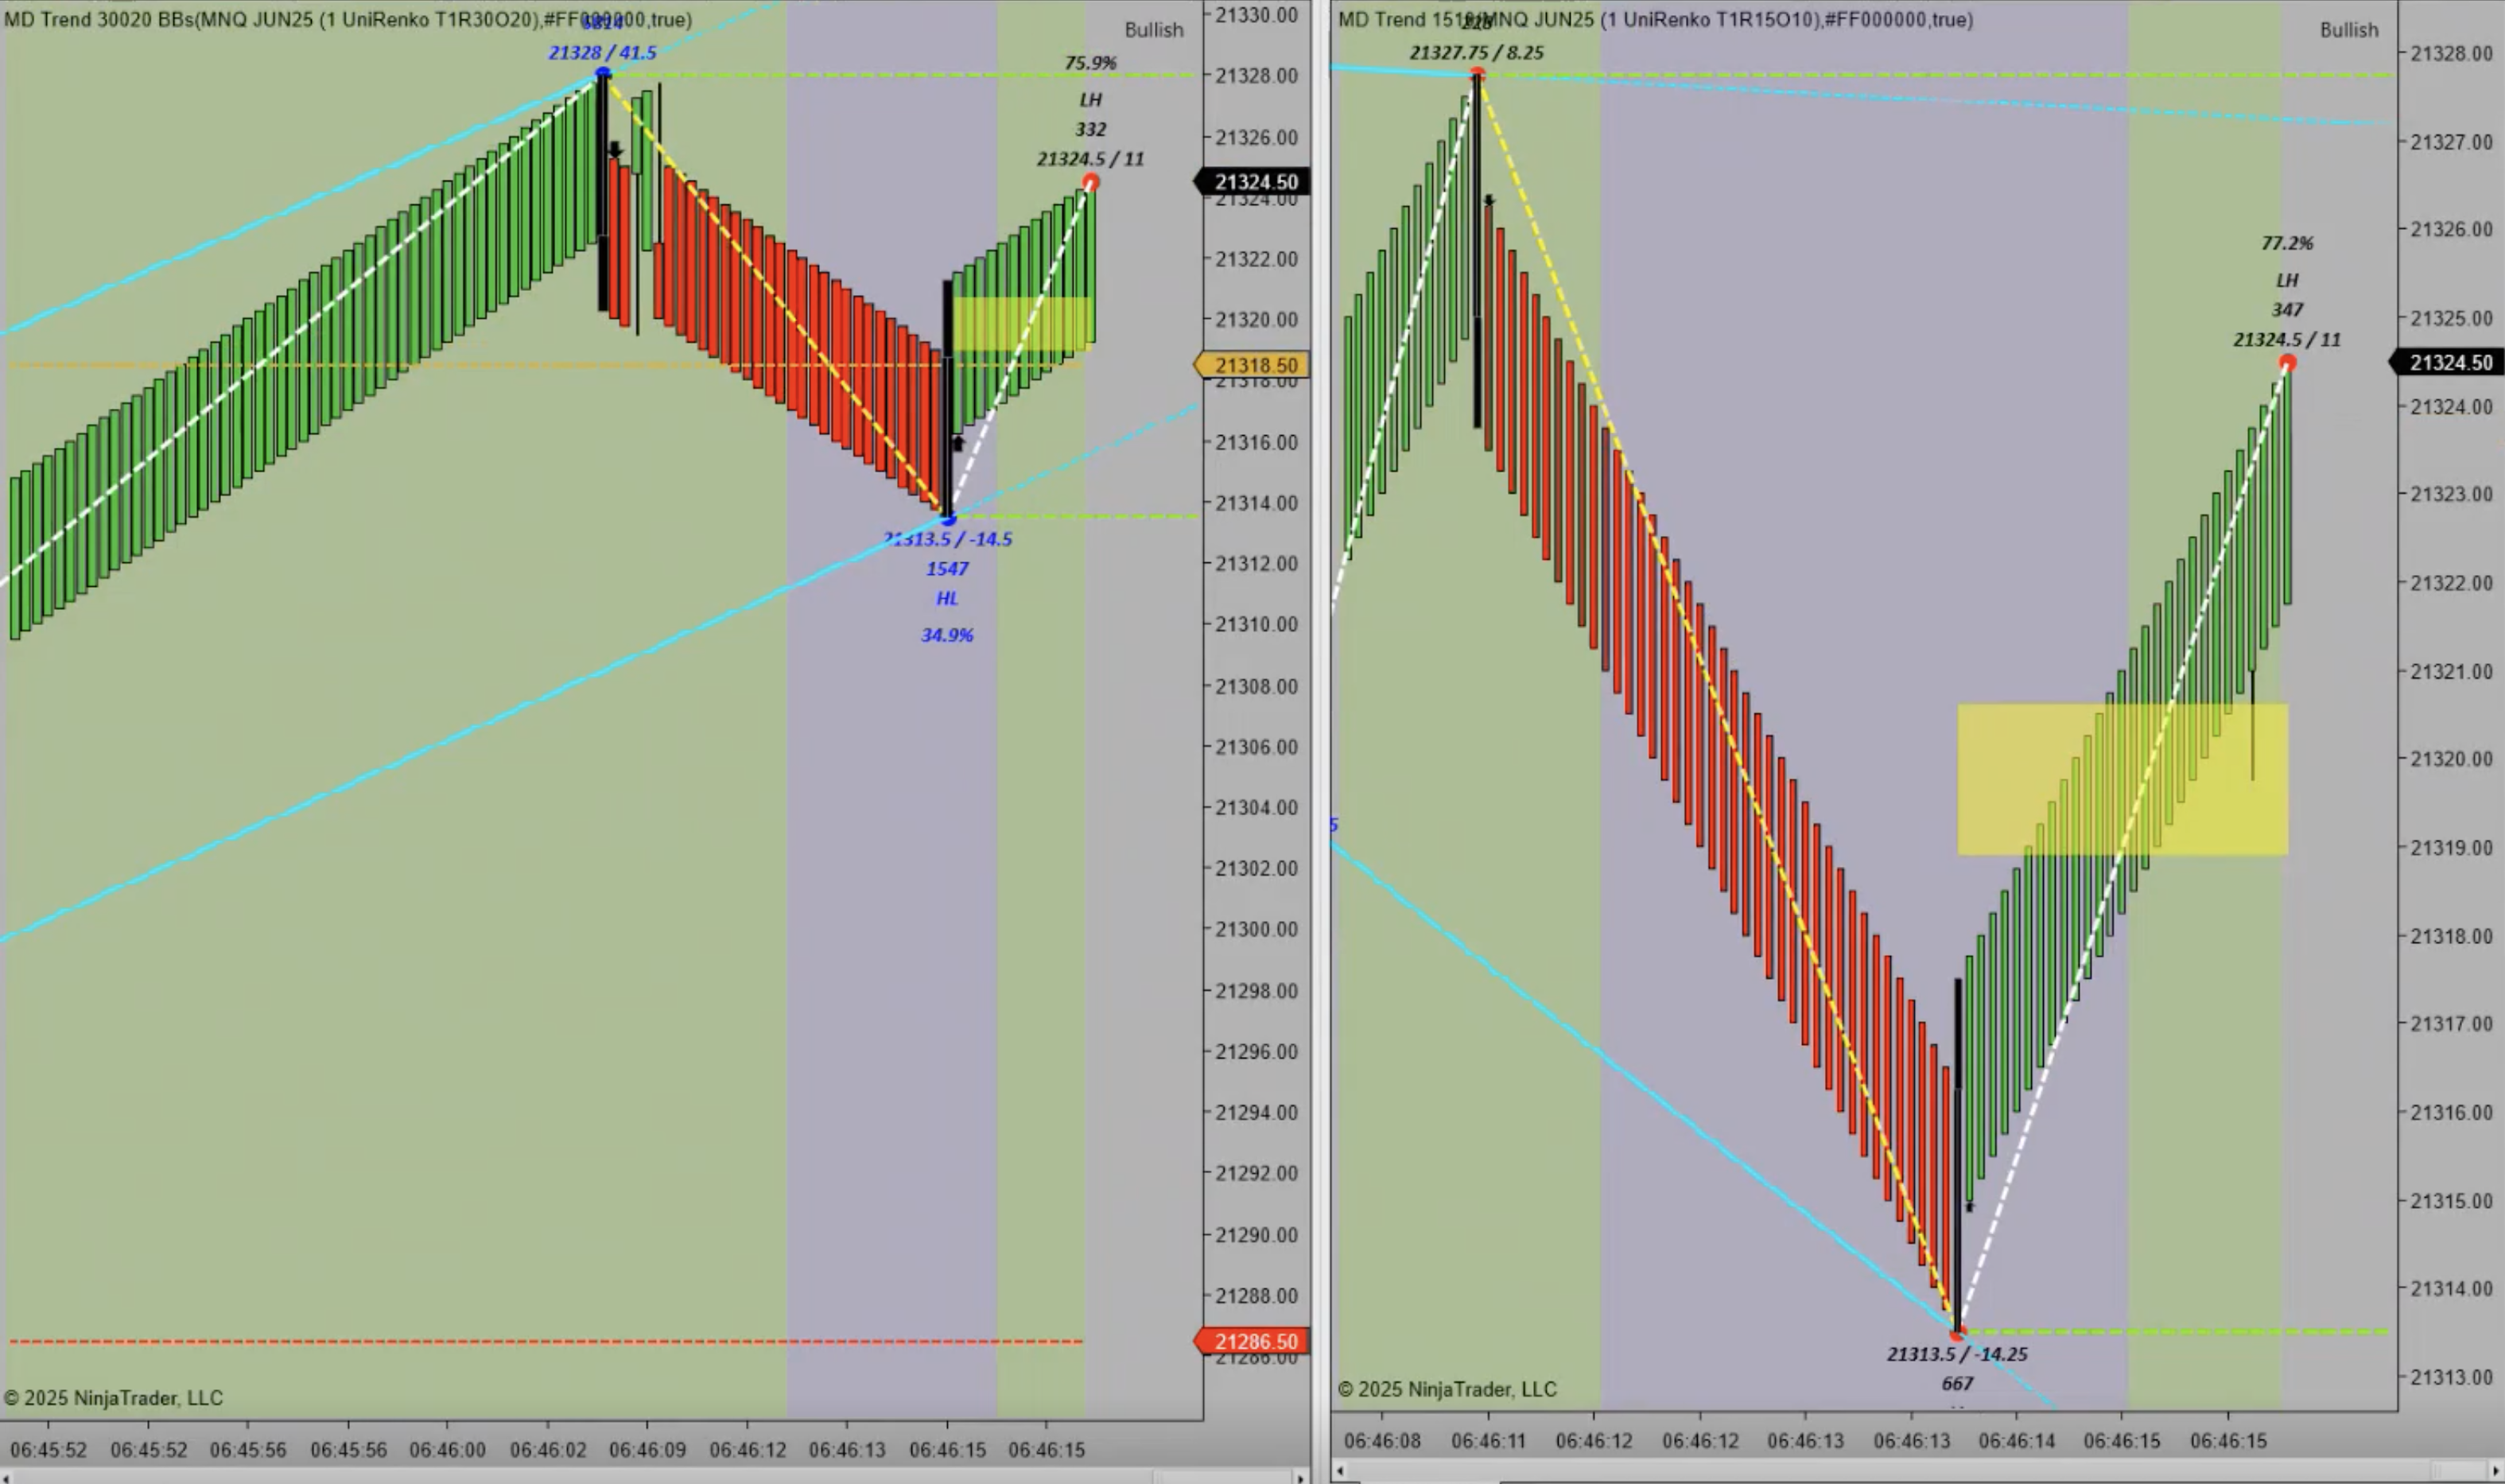candle: (590, 71, 617, 323), (1472, 71, 1487, 436), (1954, 980, 1970, 1344), (942, 279, 959, 519)
